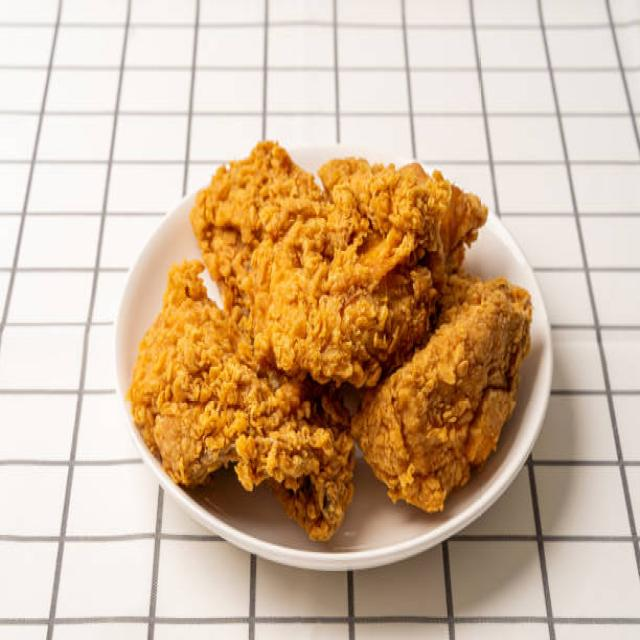Frango: (122, 140, 534, 542)
